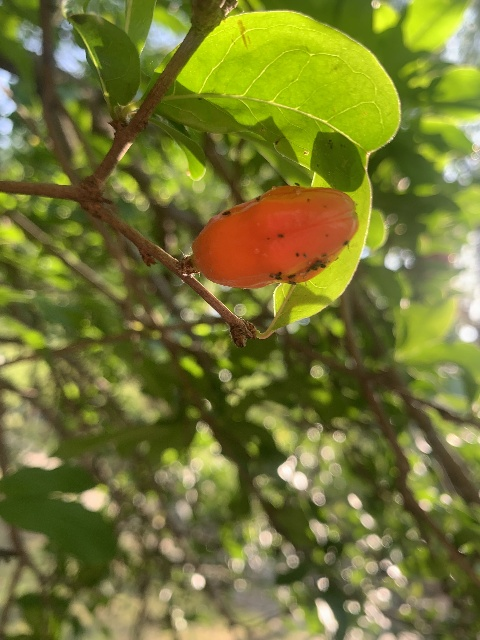bud: (192, 185, 358, 287)
